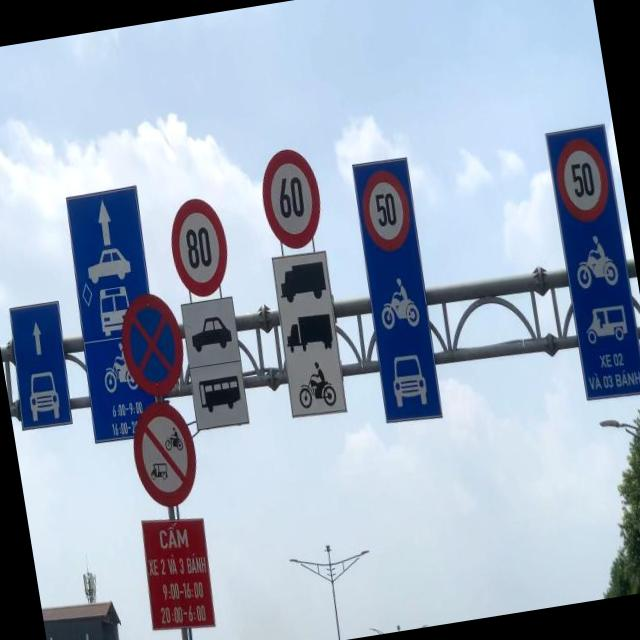P-104: (127, 399, 201, 509)
P-127: (256, 146, 327, 252), (166, 193, 234, 298)
P-130: (117, 292, 190, 402)
